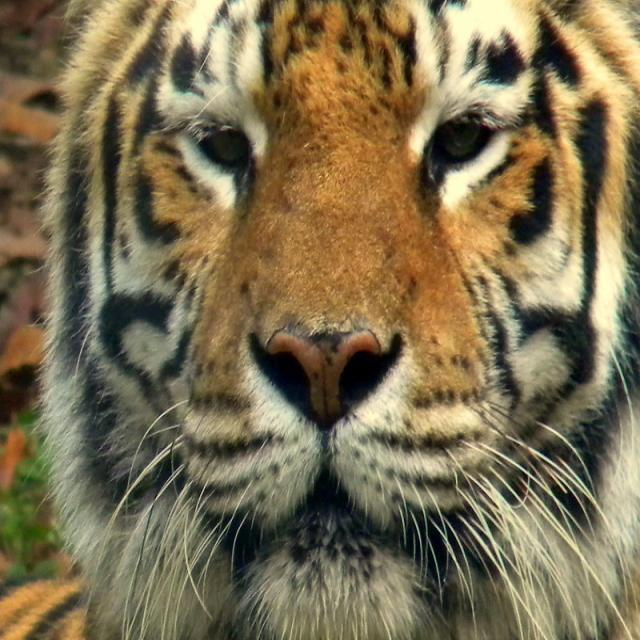Tiger: (38, 0, 636, 638)
